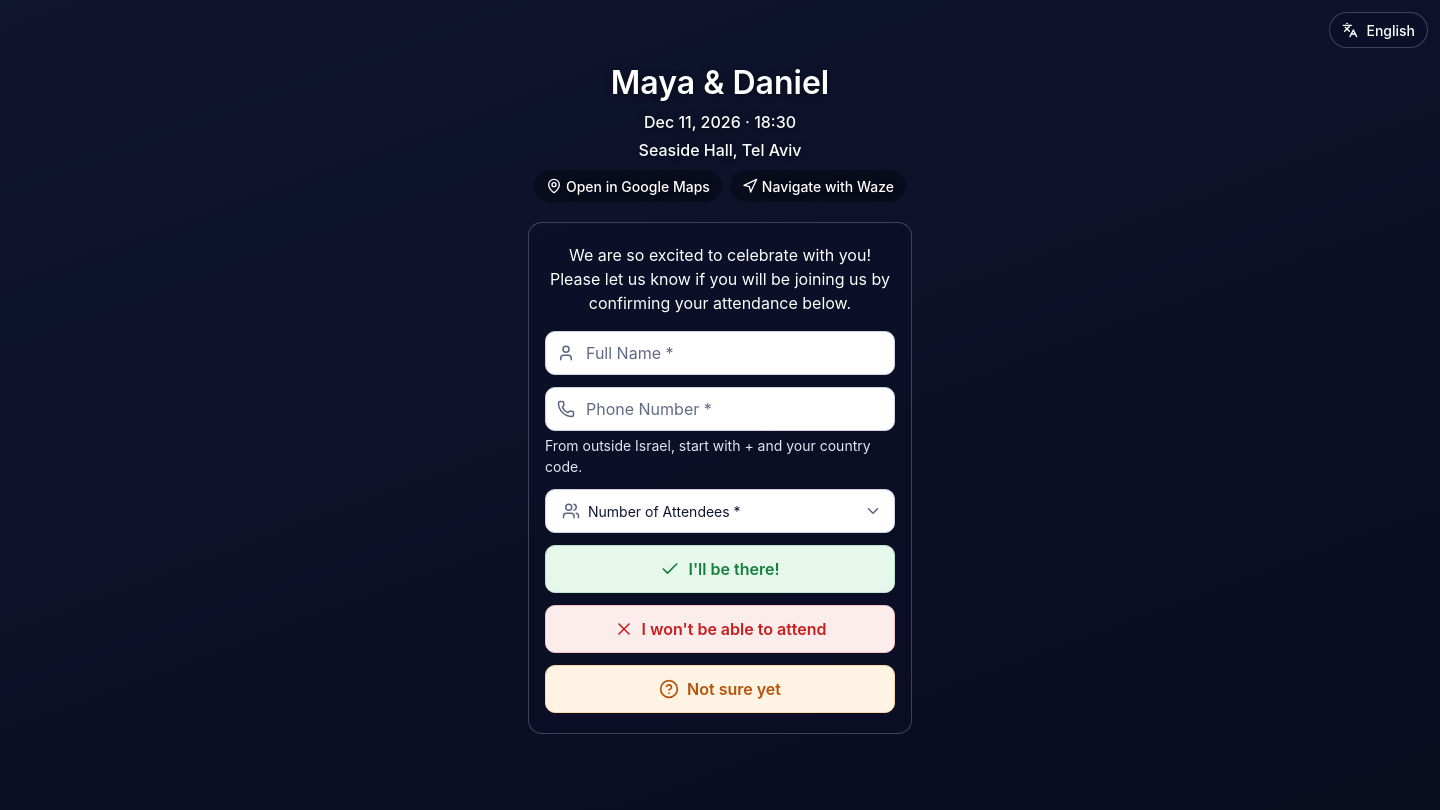
it: Public RSVP page › tells the guest when the response could not be sent
expect the heading "Maya & Daniel" is shown: met, box [611,63,829,102]
In the field labelled "Full Name": (720, 353) [545,331,895,375], type "Unlucky"
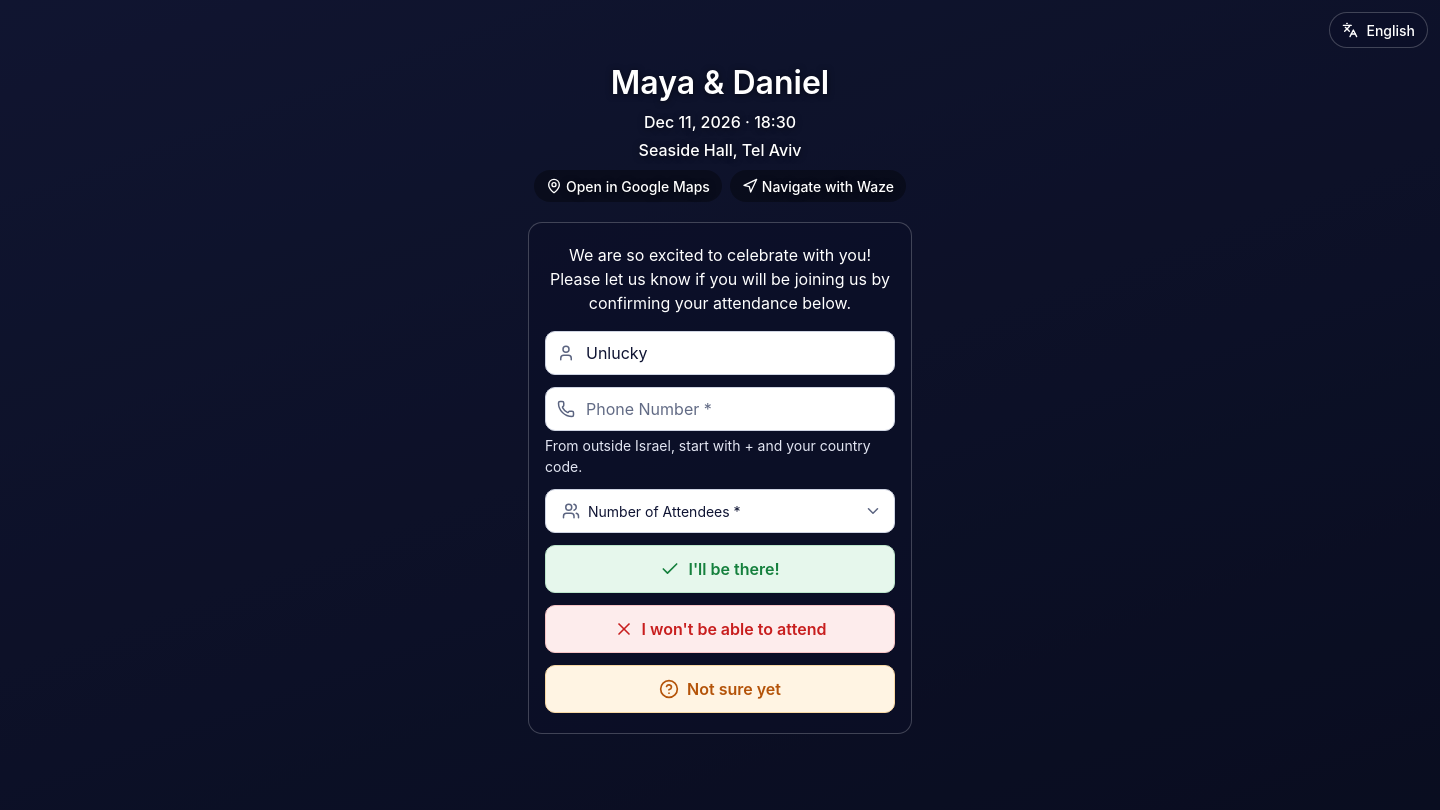
In the field labelled "Phone Number": (720, 409) [545,387,895,431], type "050-000-9997"
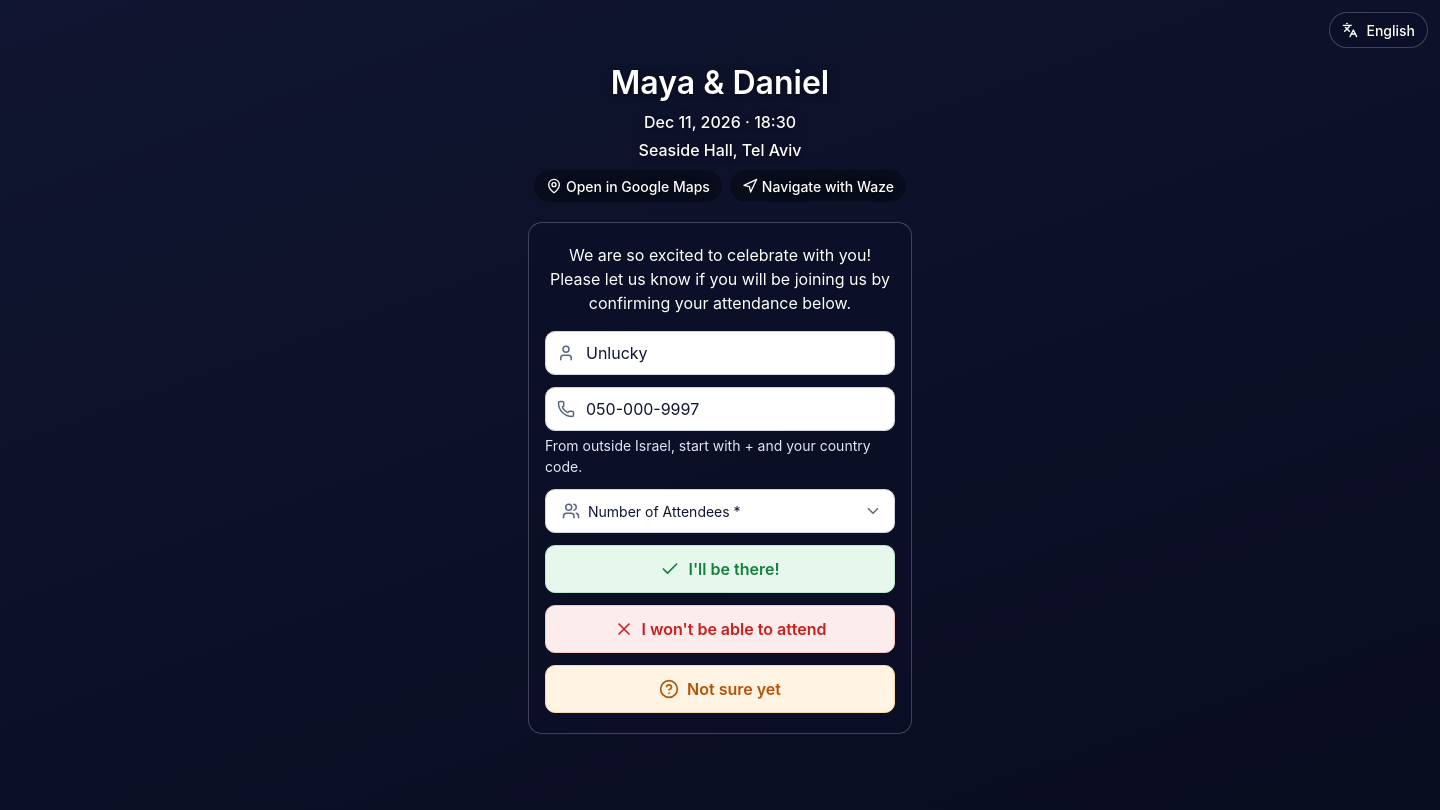
Click the dropdown labelled "Number of Attendees": (720, 511) [545,489,895,533]
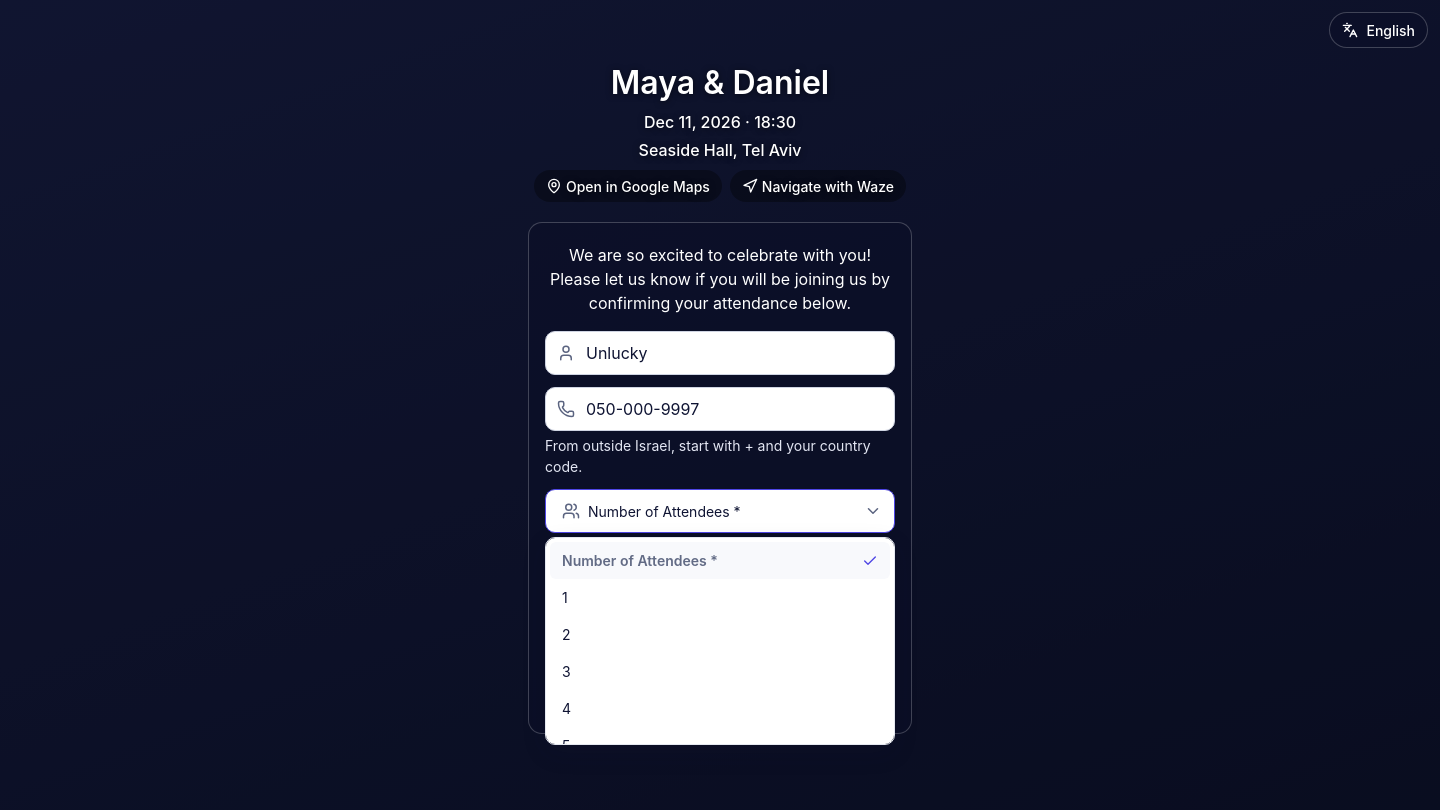
Click the option "1": (565, 598) [562,589,568,606]
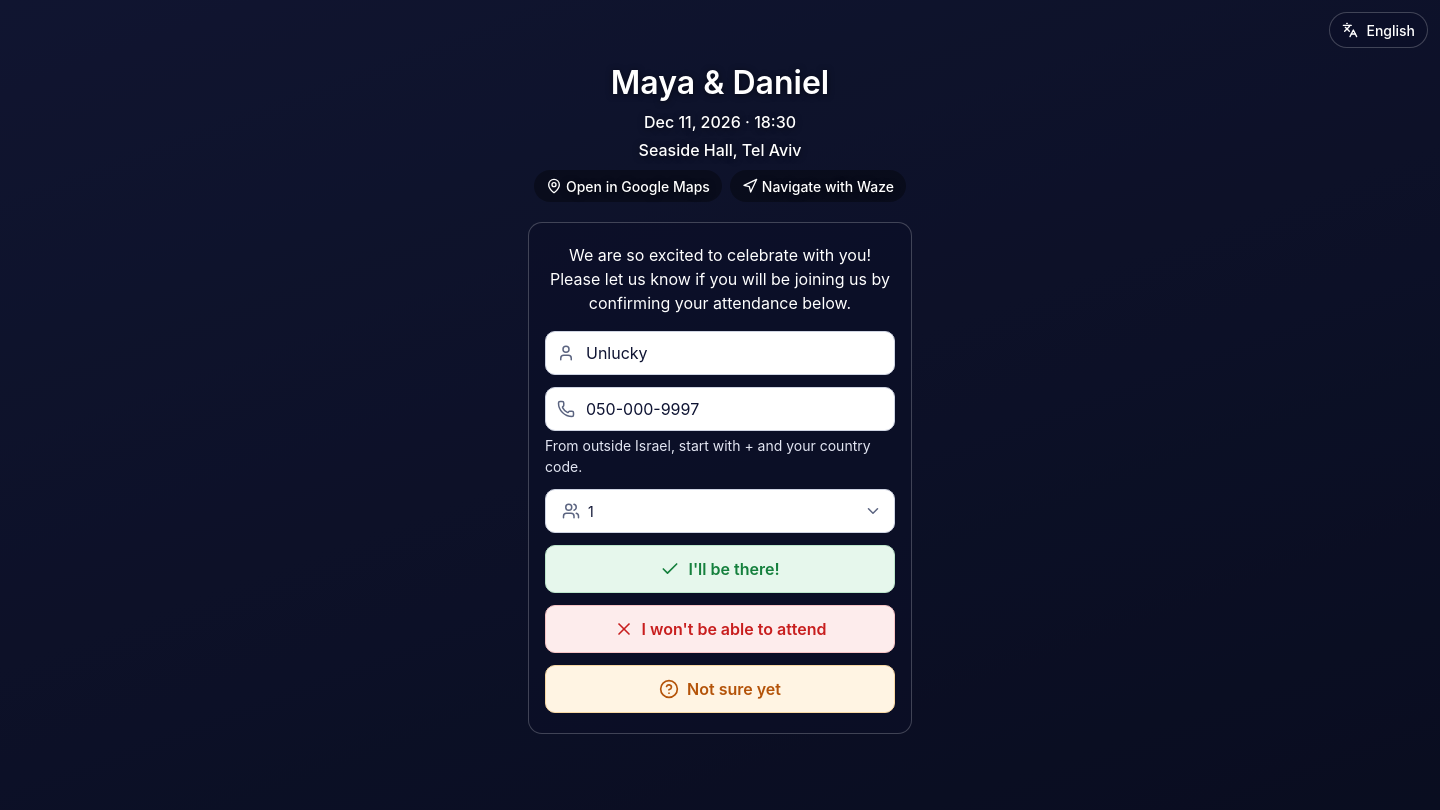
Click the button "Not sure yet": (720, 689) [545,665,895,713]
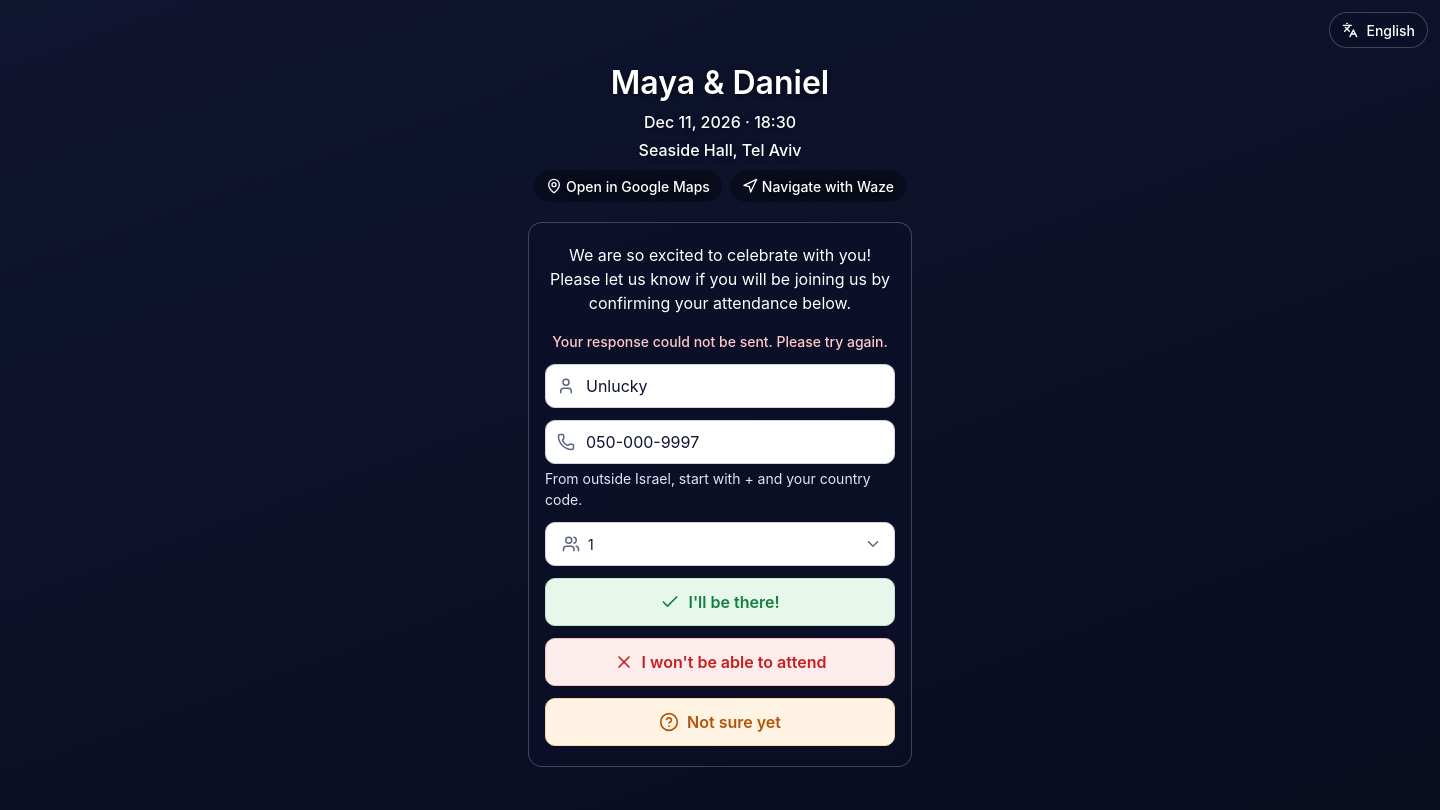
expect the button "Not sure yet" is enabled: met, box [545,698,895,746]
expect the message reads "Your response could not be sent. Please try again.": met, box [552,333,888,350]
